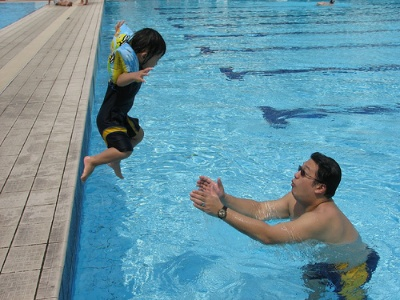person: (81, 20, 166, 184)
